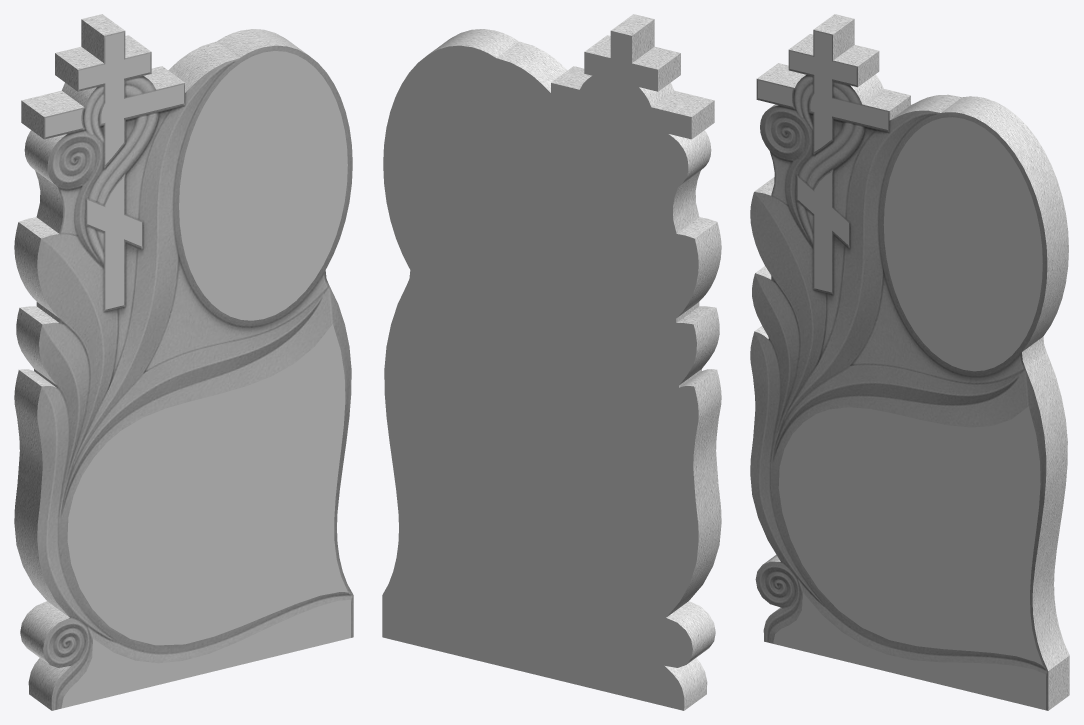
Rendered from cn0f46bfe00d_tkf.glb.
3 renders of one model, left to right at view 1: azimuth 30°, elevation 25°; view 2: azimuth 150°, elevation 25°; view 3: azimuth 330°, elevation 25°, orthographic. The views are drawn at different scales.
Parts seen in each view (by area): view 1: Pam-d03-195, Pam-d03-195_2_notexture; view 2: Pam-d03-195, Pam-d03-195_2_notexture; view 3: Pam-d03-195, Pam-d03-195_2_notexture.
Part boxes in pixels (x1=…): Pam-d03-195: x1=45, y1=32, x2=350, y2=708; Pam-d03-195_2_notexture: x1=14, y1=14, x2=353, y2=710; Pam-d03-195: x1=382, y1=31, x2=698, y2=710; Pam-d03-195_2_notexture: x1=428, y1=14, x2=721, y2=710; Pam-d03-195: x1=758, y1=31, x2=1045, y2=710; Pam-d03-195_2_notexture: x1=750, y1=14, x2=1069, y2=710.
Bounding box in the file's own units: 0.4 × 0.8 × 0.05.
Materials: 1 (1 with a texture image).
